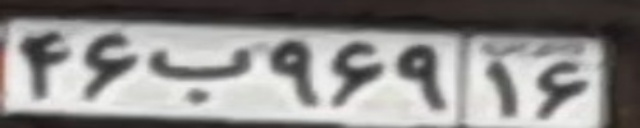1: (482, 60, 519, 116)
4: (17, 31, 69, 100)
6: (76, 32, 138, 99), (330, 41, 385, 106), (532, 59, 587, 119)
9: (395, 45, 448, 110), (267, 39, 317, 105)
be: (146, 47, 252, 103)
